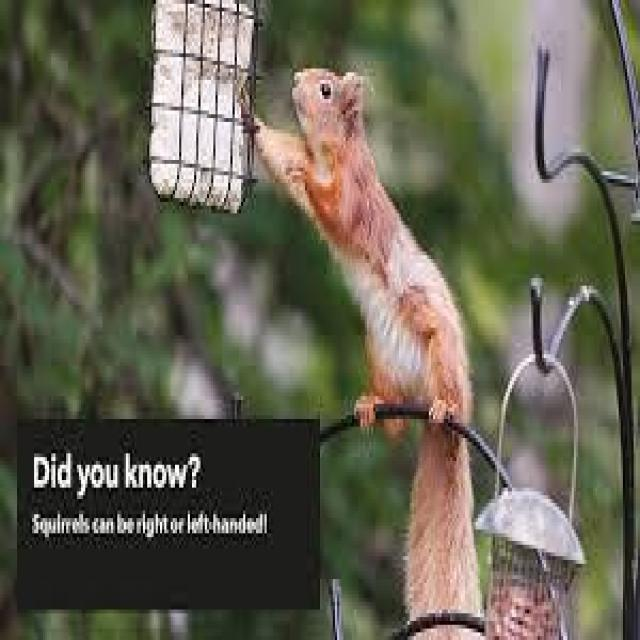license-plate: (241, 57, 506, 640)
